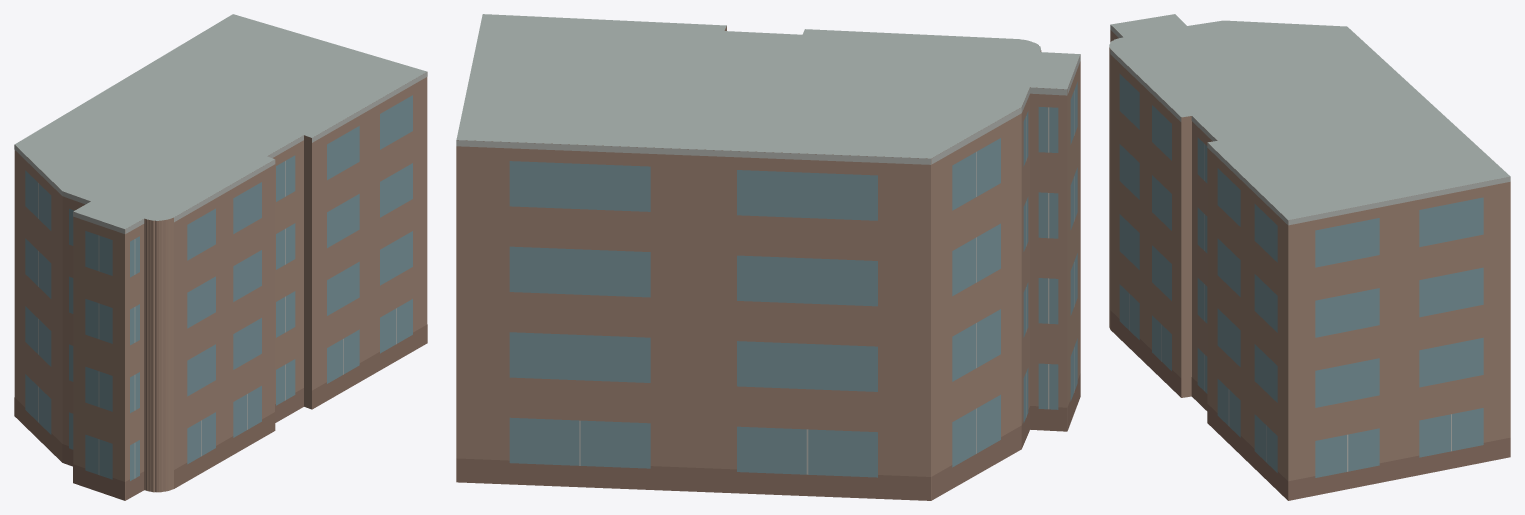
The model's file is survey-upis-32664965.glb.
The picture shows the model from 3 angles, left to right: view 1: azimuth 30°, elevation 25°; view 2: azimuth 150°, elevation 25°; view 3: azimuth 270°, elevation 25°; orthographic projection. The views are drawn at different scales.
Parts seen in each view (by area): view 1: survey-upis-32664965.tmp; view 2: survey-upis-32664965.tmp; view 3: survey-upis-32664965.tmp.
Part boxes in pixels (box(x1,y1,x2,y2)): survey-upis-32664965.tmp: box(14, 14, 427, 500); survey-upis-32664965.tmp: box(456, 14, 1080, 500); survey-upis-32664965.tmp: box(1109, 14, 1510, 500).
Bounding box in the file's own units: 20.98 × 13.3 × 17.25.
